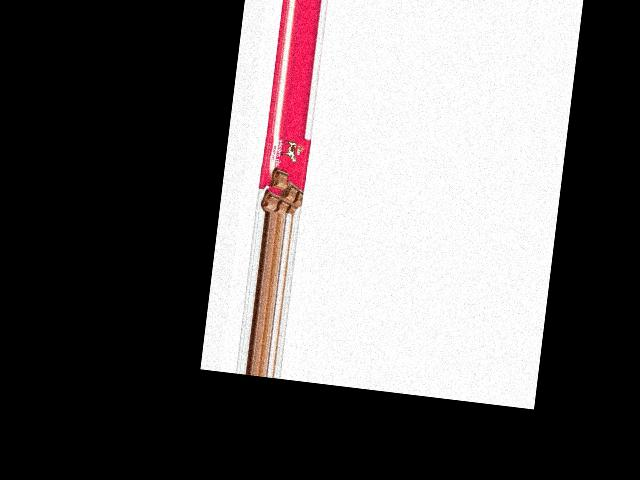chocolate: (255, 132, 309, 215)
